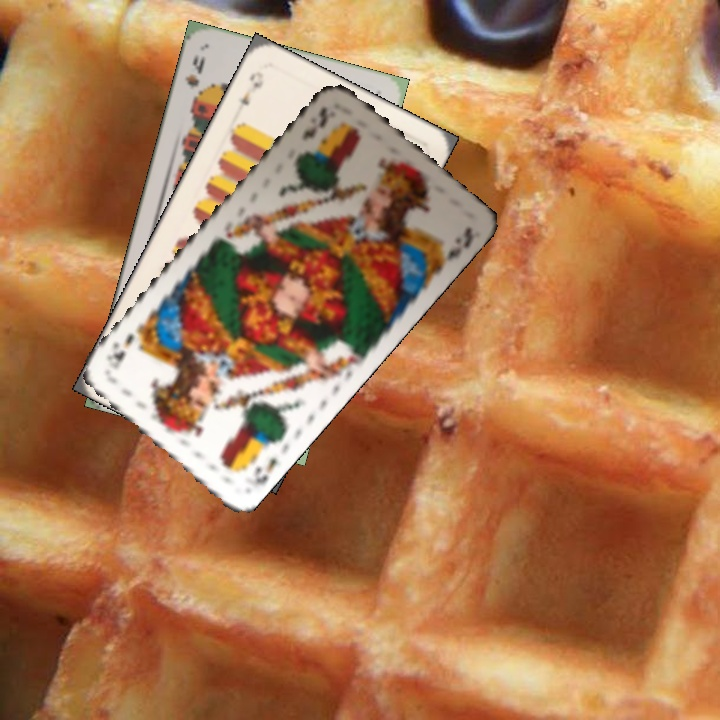E9: (236, 67, 266, 109)
EK: (298, 102, 339, 144), (250, 453, 280, 488)
S9: (181, 51, 208, 108)
